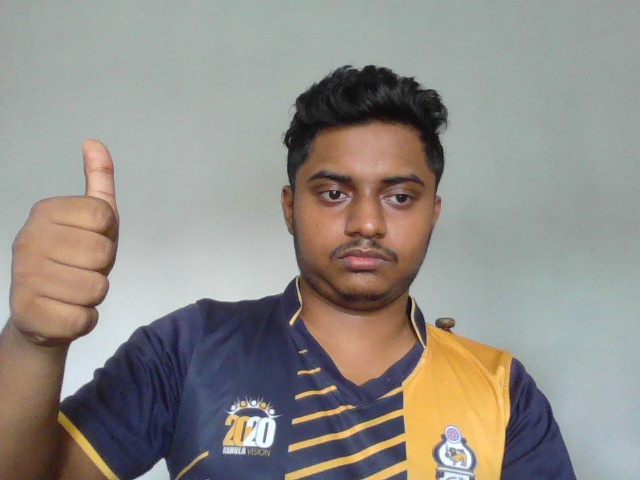Agree: (4, 138, 133, 341)
